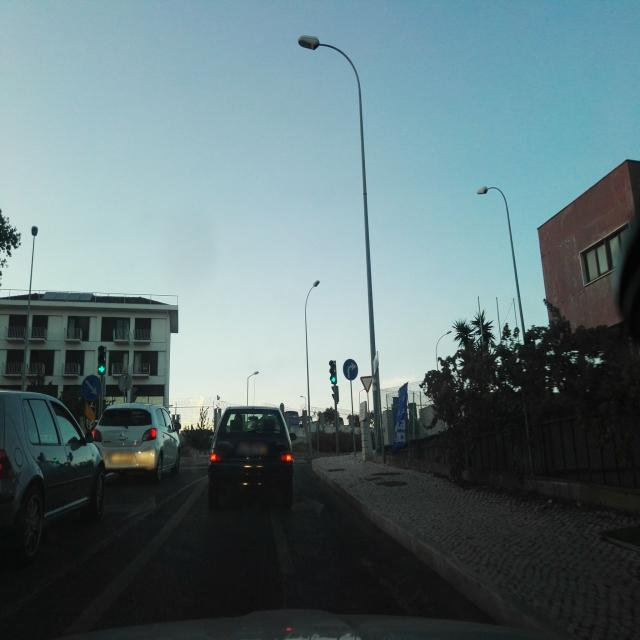car: (0, 388, 106, 564), (207, 404, 295, 511), (92, 401, 182, 483)
